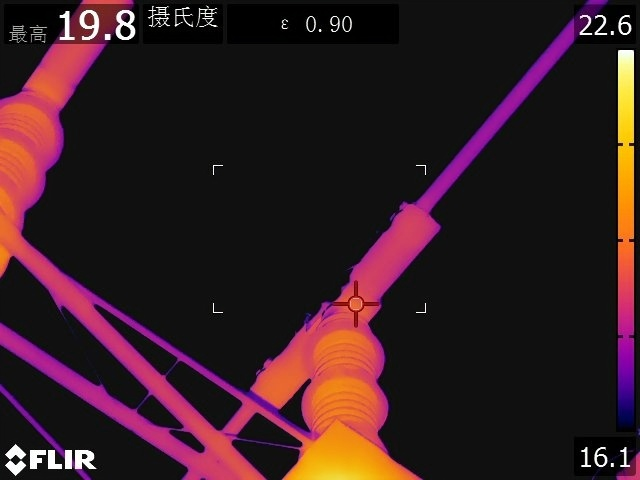post insulator: (1, 96, 80, 286), (296, 306, 396, 445)
